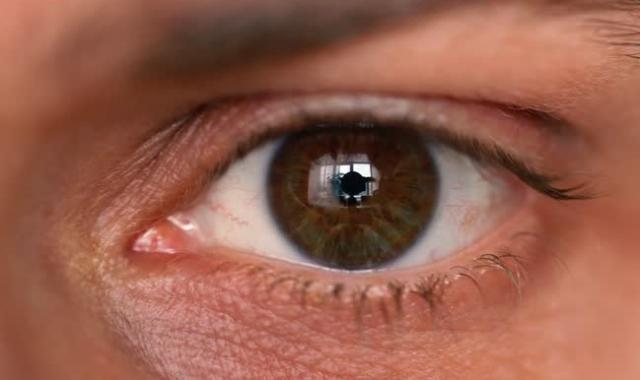eye: (265, 116, 441, 272)
